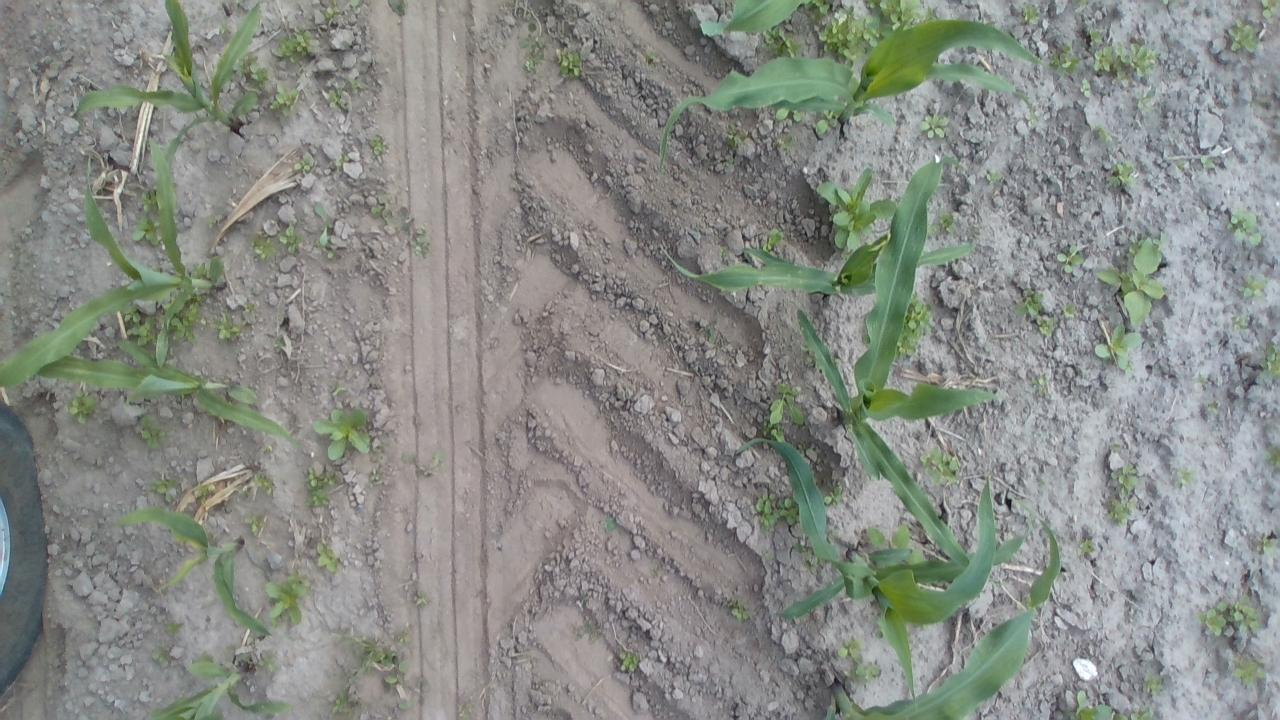Maize: (792, 154, 974, 570), (735, 439, 996, 708), (658, 15, 1042, 175), (0, 135, 228, 390), (825, 496, 1061, 720), (78, 0, 262, 172), (38, 338, 298, 451), (104, 508, 270, 638), (146, 661, 288, 720), (697, 0, 834, 39)
Weeds: (1096, 232, 1166, 328), (816, 168, 896, 249), (819, 6, 880, 69), (312, 408, 370, 460), (1196, 593, 1260, 637), (866, 523, 926, 565), (894, 290, 932, 356), (265, 569, 307, 628), (1094, 324, 1143, 374), (866, 0, 922, 34), (755, 491, 800, 533), (120, 298, 158, 346), (172, 294, 208, 344), (370, 192, 410, 232), (1062, 689, 1112, 720), (273, 27, 316, 63), (517, 22, 546, 75), (1093, 42, 1129, 83), (919, 448, 960, 484), (762, 24, 804, 59), (303, 466, 336, 508), (235, 50, 269, 90), (770, 384, 804, 424), (1227, 207, 1261, 246), (356, 637, 396, 667), (1230, 654, 1266, 686), (137, 412, 167, 450), (1129, 42, 1162, 76), (66, 388, 96, 425), (1228, 18, 1258, 52), (212, 312, 247, 341), (269, 85, 300, 117), (312, 202, 333, 246), (1110, 463, 1138, 496), (130, 216, 160, 246), (1048, 45, 1078, 75), (1106, 498, 1134, 528), (1257, 344, 1280, 380), (847, 660, 881, 684), (330, 689, 357, 719), (1014, 288, 1044, 315), (799, 0, 831, 24), (1056, 246, 1084, 273), (279, 225, 304, 254), (1238, 275, 1268, 299), (557, 50, 582, 78), (148, 477, 176, 502), (250, 236, 279, 260), (1106, 162, 1136, 185), (348, 659, 373, 686), (926, 211, 955, 234), (316, 542, 338, 572), (382, 660, 409, 684), (1112, 705, 1154, 720), (921, 115, 947, 138), (724, 123, 746, 150), (774, 104, 805, 123), (138, 184, 158, 213), (838, 638, 862, 662), (815, 109, 836, 136), (253, 471, 275, 496), (1142, 670, 1162, 697), (762, 228, 784, 252), (413, 226, 430, 256), (243, 514, 266, 535), (728, 599, 751, 620), (618, 650, 640, 671), (1035, 316, 1056, 338), (327, 86, 347, 109), (1174, 468, 1194, 489), (369, 134, 388, 156), (1261, 444, 1280, 466), (1257, 536, 1277, 556), (821, 486, 842, 505), (1136, 90, 1154, 112), (1031, 374, 1049, 396), (196, 482, 214, 503), (292, 154, 312, 172), (190, 262, 210, 280), (258, 652, 276, 672), (1096, 124, 1112, 146), (1261, 0, 1280, 18), (338, 632, 362, 646), (324, 0, 340, 20), (800, 342, 816, 362), (1077, 538, 1094, 556), (1231, 314, 1248, 332), (1022, 4, 1038, 23), (584, 624, 600, 642), (386, 0, 406, 14), (346, 74, 366, 88), (923, 5, 940, 21), (770, 423, 785, 441), (802, 557, 822, 570), (152, 647, 168, 663), (1025, 110, 1042, 125), (603, 515, 617, 533), (1078, 78, 1090, 98), (458, 706, 474, 720), (1088, 28, 1102, 44), (415, 589, 427, 607), (332, 380, 346, 395), (432, 452, 448, 465), (781, 136, 795, 150), (216, 20, 231, 33), (243, 301, 258, 314), (1200, 155, 1215, 168), (163, 294, 175, 310), (396, 632, 411, 644), (165, 622, 183, 632), (198, 651, 214, 662), (334, 154, 348, 166), (1074, 0, 1088, 12), (987, 172, 1001, 184), (794, 542, 808, 554), (706, 326, 715, 344), (1064, 302, 1074, 318), (646, 52, 660, 62), (401, 454, 415, 464), (175, 394, 190, 402), (1174, 158, 1184, 170), (762, 422, 772, 434), (839, 251, 852, 260), (718, 245, 728, 256), (397, 700, 408, 710), (1208, 401, 1218, 412), (872, 628, 883, 638), (370, 472, 382, 481), (148, 348, 158, 358), (1110, 443, 1120, 453), (208, 215, 216, 227), (723, 158, 735, 166), (796, 444, 808, 452), (349, 0, 362, 7), (262, 444, 273, 452), (762, 550, 773, 558), (832, 356, 842, 364), (233, 0, 246, 6), (240, 653, 250, 660), (327, 250, 334, 259), (151, 266, 161, 272), (1162, 0, 1168, 4)
